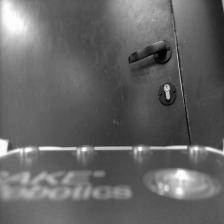Door Handle: (128, 38, 172, 67)
Lock: (157, 81, 178, 106)
